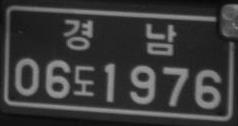0: (13, 57, 40, 97)
1: (99, 61, 122, 103)
6: (193, 68, 222, 110), (44, 58, 72, 100)
7: (161, 64, 191, 108)
9: (129, 63, 157, 106)
경남_D: (62, 17, 177, 57)
도: (72, 63, 95, 98)
